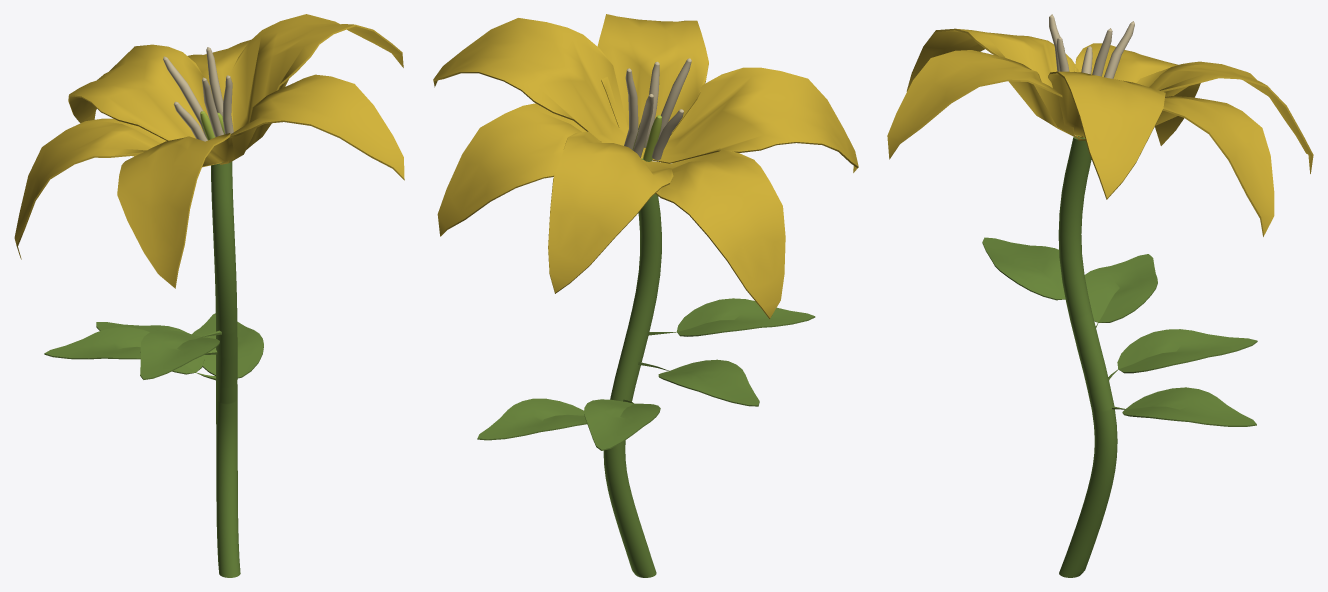
File: Flower_1.fbx
3 renders of one model, left to right at view 1: azimuth 30°, elevation 25°; view 2: azimuth 150°, elevation 25°; view 3: azimuth 270°, elevation 25°, orthographic. The views are drawn at different scales.
Visible parts, largest first — view 1: Flower; view 2: Flower; view 3: Flower.
Boxes of the visible parts, x1,y1,x2,y2 form: Flower: (14,14,404,577); Flower: (433,14,858,577); Flower: (887,14,1313,577).
Size of the model in its own units: 29.44 by 39.98 by 28.15.
